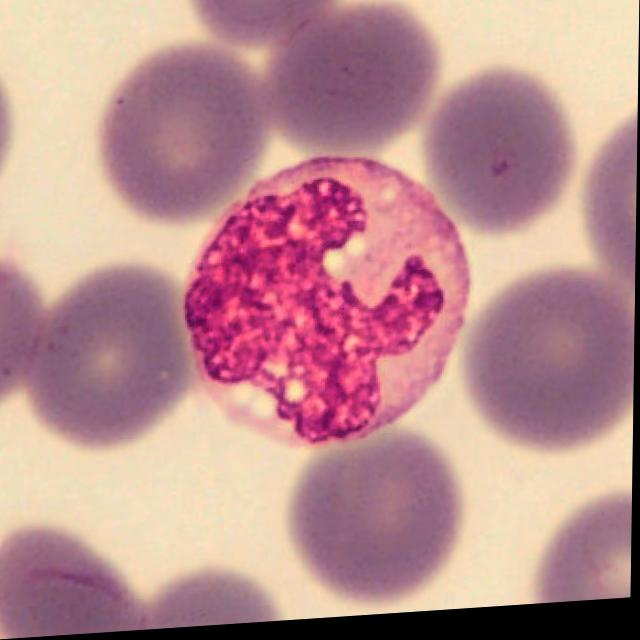Monocito: (183, 157, 472, 452)
